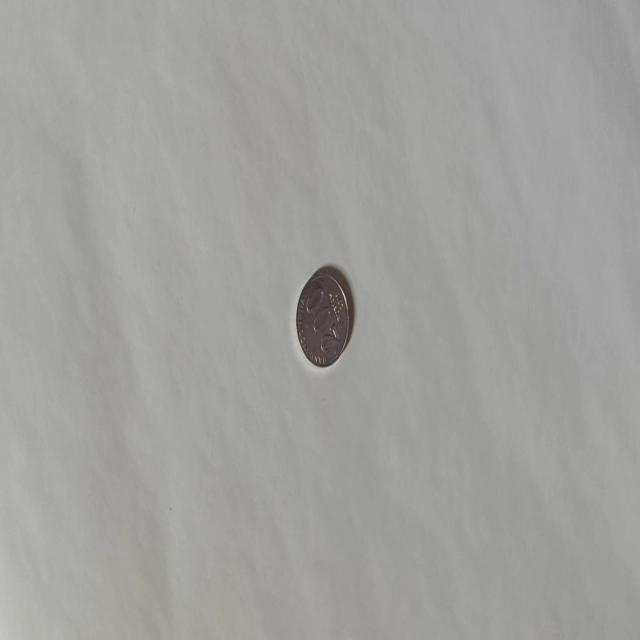dua ratus rupiah: (294, 268, 350, 368)
